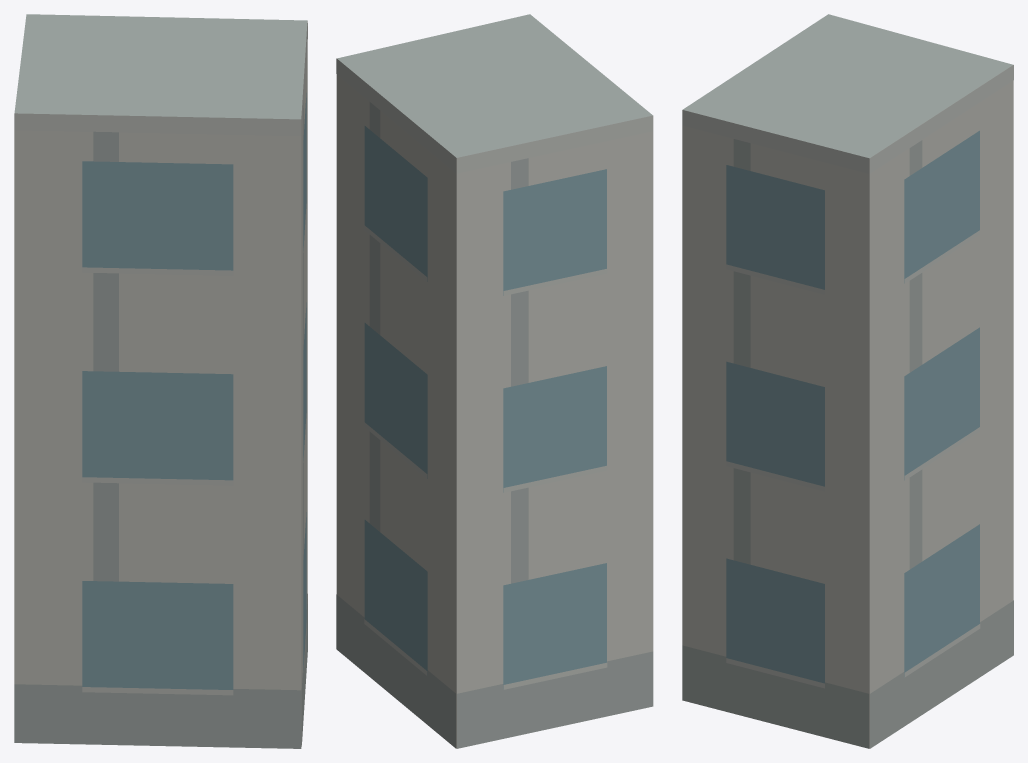
The model's file is survey-upis-32748372.glb.
The picture shows the model from 3 angles, left to right: view 1: azimuth 30°, elevation 25°; view 2: azimuth 150°, elevation 25°; view 3: azimuth 270°, elevation 25°; orthographic projection. The views are drawn at different scales.
Visible parts, largest first — view 1: survey-upis-32748372.tmp; view 2: survey-upis-32748372.tmp; view 3: survey-upis-32748372.tmp.
Boxes of the visible parts, <box> form: survey-upis-32748372.tmp: <box>14,14,307,748</box>; survey-upis-32748372.tmp: <box>336,14,653,748</box>; survey-upis-32748372.tmp: <box>682,14,1013,748</box>.
Size of the model in its own units: 4.8 by 9.15 by 4.66.
